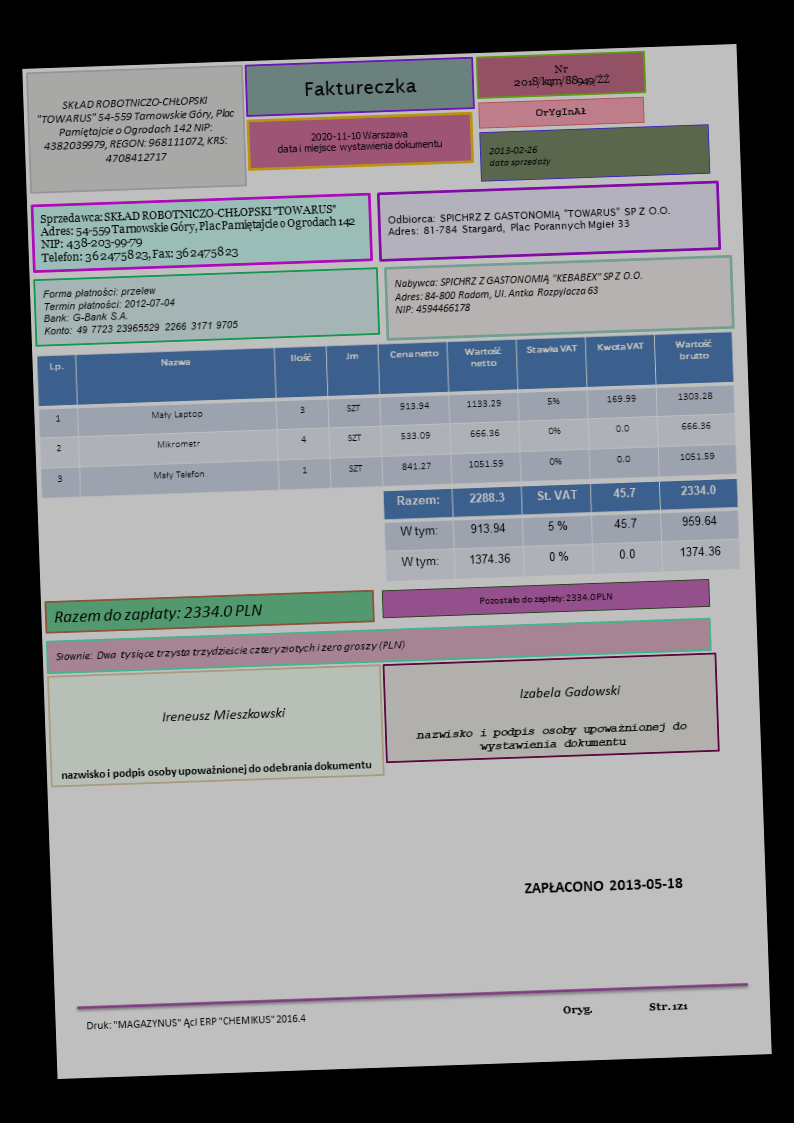Table: (35, 330, 739, 499), (381, 477, 742, 583)
TextBox: (37, 199, 360, 266), (34, 91, 241, 170), (392, 267, 648, 317), (40, 279, 241, 338), (383, 201, 674, 240), (413, 717, 691, 756), (54, 636, 406, 665), (58, 755, 374, 784), (51, 598, 265, 628), (84, 1009, 307, 1036), (274, 126, 446, 156), (519, 872, 688, 897), (510, 59, 612, 92), (158, 702, 287, 727), (302, 75, 418, 100), (560, 997, 692, 1018), (476, 588, 617, 607), (517, 679, 624, 704), (486, 142, 554, 172), (532, 103, 588, 121)
